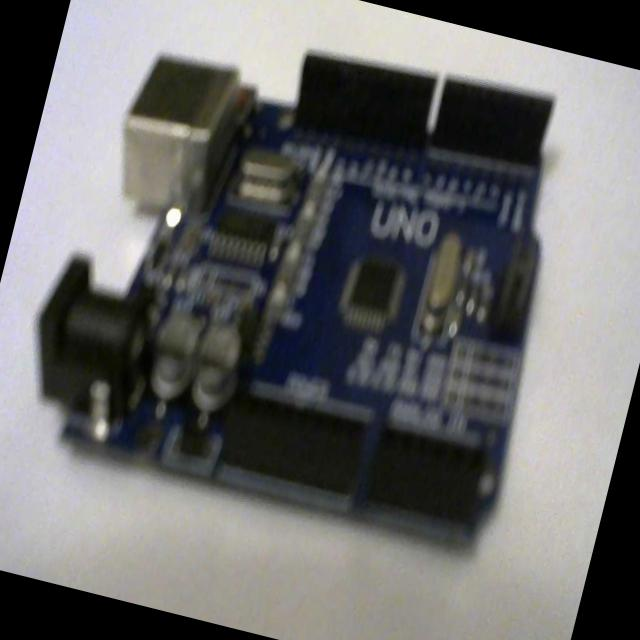arduino: (4, 0, 603, 569)
